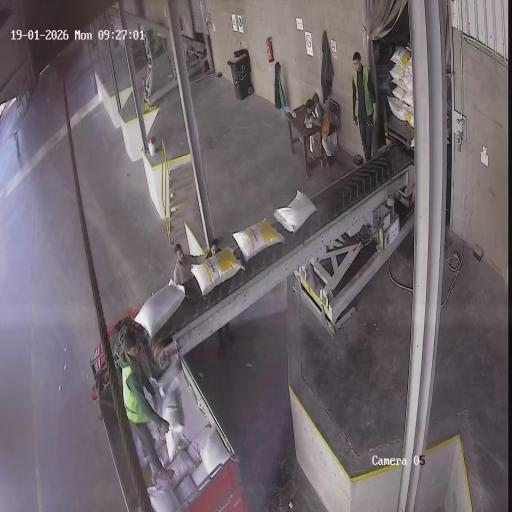c-belt-sack-count: (135, 279, 187, 338), (191, 248, 243, 297), (232, 219, 284, 262), (274, 190, 317, 233)
